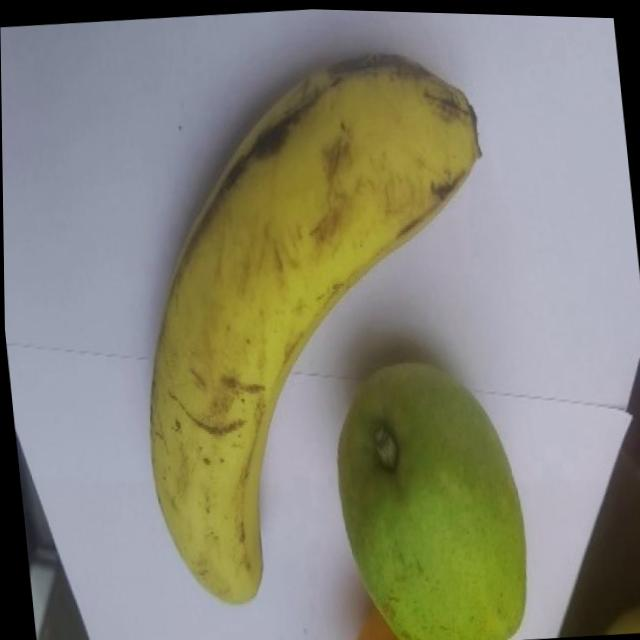Banana: (110, 32, 526, 616)
